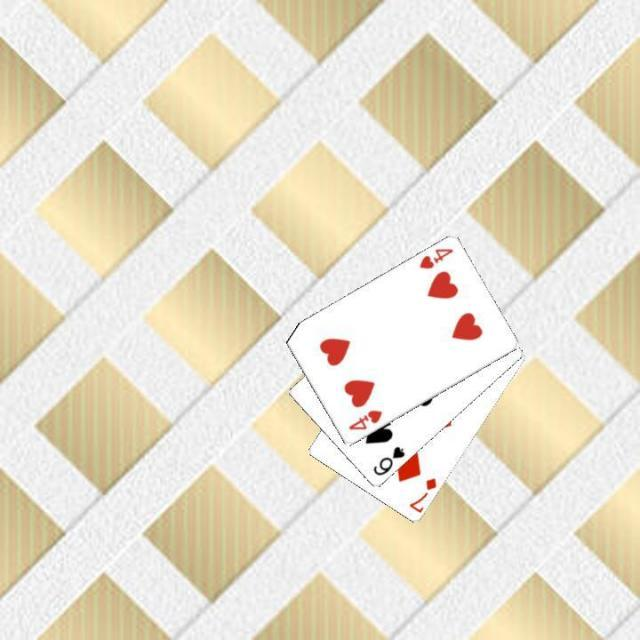4H: (344, 406, 384, 432), (415, 245, 455, 271)
6S: (369, 443, 407, 479)
7D: (406, 474, 439, 515)
